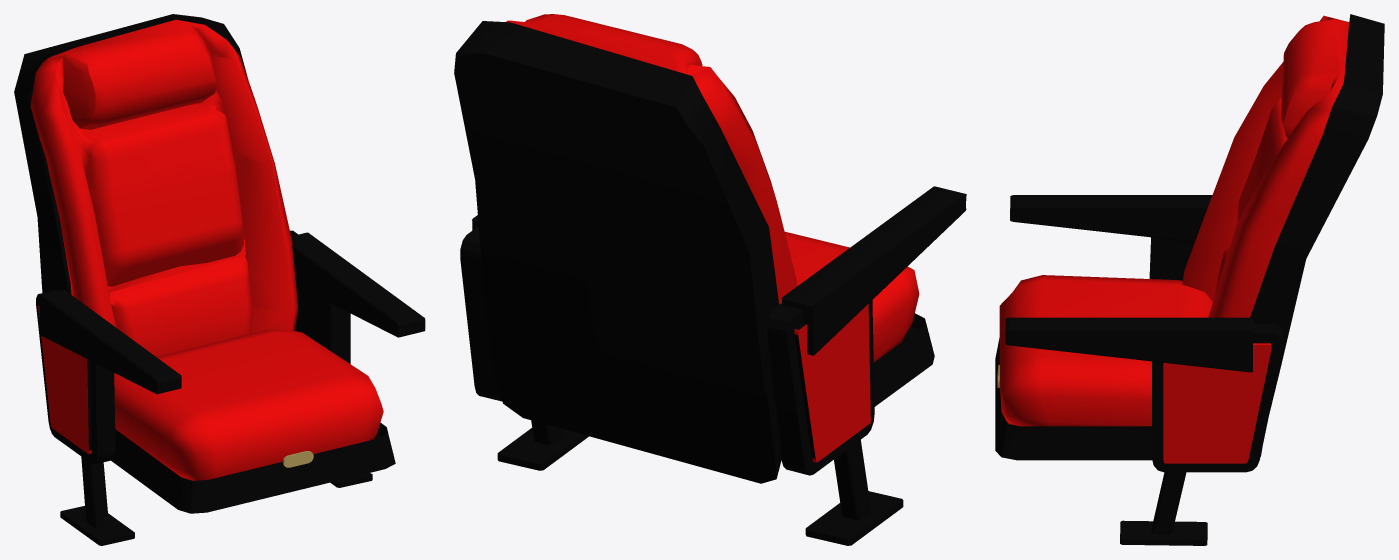
The model's file is Theater_Chair.fbx.
3 views of the same model, side by side, from view 1: azimuth 30°, elevation 25°; view 2: azimuth 150°, elevation 25°; view 3: azimuth 270°, elevation 25° (orthographic). The views are drawn at different scales.
Visible parts, largest first — view 1: Cushion1, Cushion, pCube1, Support1, pCube2, SupportHandle1, SupportHandle, Support, pCube8, pCube9; view 2: pCube2, Support1, SupportHandle1, Cushion1, Cushion, Support, pCube1, pCube9, pCube8, pCube4; view 3: Cushion1, Cushion, Support, pCube2, SupportHandle, SupportHandle1, pCube1, pCube4, Support1, pCube3.
Boxes of the visible parts, box(x1,y1,x2,y2) form: Cushion1: box(30, 19, 297, 373); Cushion: box(114, 329, 383, 480); pCube1: box(111, 422, 395, 513); Support1: box(36, 290, 115, 464); pCube2: box(14, 14, 247, 294); SupportHandle1: box(39, 289, 181, 394); SupportHandle: box(291, 232, 425, 337); Support: box(290, 230, 350, 363); pCube8: box(81, 456, 108, 527); pCube9: box(60, 506, 134, 545); pCube2: box(454, 21, 781, 483); Support1: box(767, 300, 874, 475); SupportHandle1: box(781, 186, 966, 355); Cushion1: box(506, 14, 797, 304); Cushion: box(784, 231, 919, 362); Support: box(460, 226, 502, 401); pCube1: box(873, 313, 934, 406); pCube9: box(805, 491, 903, 545); pCube8: box(834, 440, 871, 520); pCube4: box(497, 428, 588, 470); Cushion1: box(1182, 15, 1349, 317); Cushion: box(999, 275, 1212, 426); Support: box(1152, 323, 1282, 472); pCube2: box(1250, 14, 1384, 456); SupportHandle: box(1005, 317, 1253, 372); SupportHandle1: box(1010, 195, 1212, 241); pCube1: box(995, 338, 1152, 460); pCube4: box(1120, 520, 1207, 545); Support1: box(1149, 211, 1205, 280); pCube3: box(1151, 472, 1186, 534).
Bounding box in the file's own units: 2.92 × 4.15 × 3.44.
